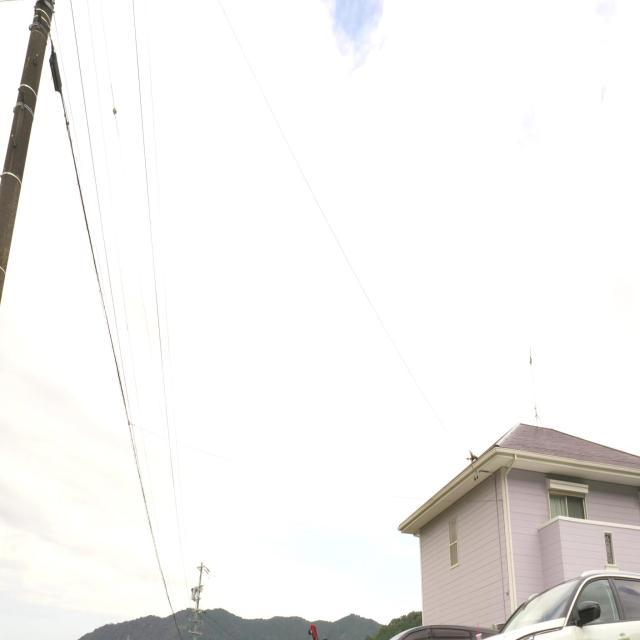Birds: (462, 444, 481, 469)
